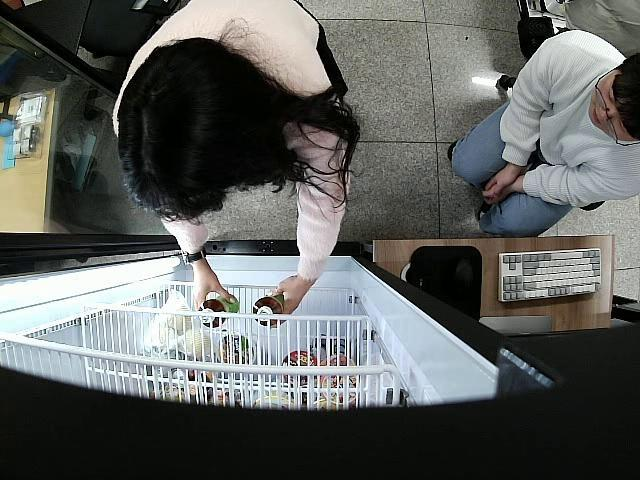19_17cha: (198, 294, 242, 332), (252, 292, 284, 328)
